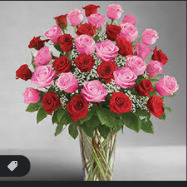RedRose: (67, 90, 87, 119), (110, 92, 131, 116), (97, 60, 118, 84), (135, 74, 156, 95), (42, 91, 61, 114), (53, 53, 74, 72), (148, 96, 165, 119), (74, 22, 97, 37), (78, 52, 95, 71), (151, 46, 167, 66), (114, 38, 132, 55), (15, 62, 31, 81), (106, 23, 122, 42), (58, 32, 73, 52), (82, 1, 100, 17), (27, 34, 42, 52), (54, 11, 68, 27)
